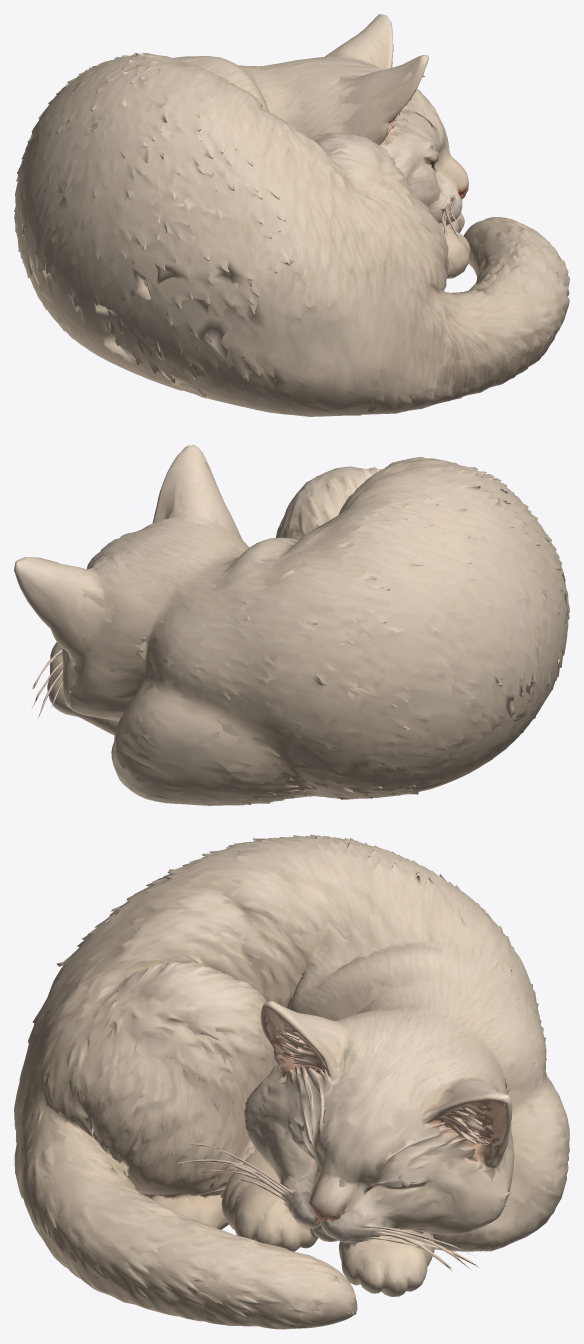
Rendered from diner-cat.glb.
3 renders of one model, top to bottom at view 1: azimuth 30°, elevation 25°; view 2: azimuth 150°, elevation 25°; view 3: azimuth 270°, elevation 25°, orthographic. The views are drawn at different scales.
Visible parts, largest first — view 1: Detailed view, Room view; view 2: Detailed view, Room view; view 3: Detailed view, Room view.
Part boxes in pixels (x1,y1,x2,y2): Detailed view: [14, 14, 569, 416]; Room view: [14, 14, 569, 416]; Detailed view: [14, 445, 569, 805]; Room view: [14, 446, 569, 805]; Detailed view: [14, 834, 569, 1329]; Room view: [14, 835, 569, 1328].
Bounding box in the file's own units: 0.9636 × 0.5436 × 0.8873.
Materials: 1 (1 with a texture image).
